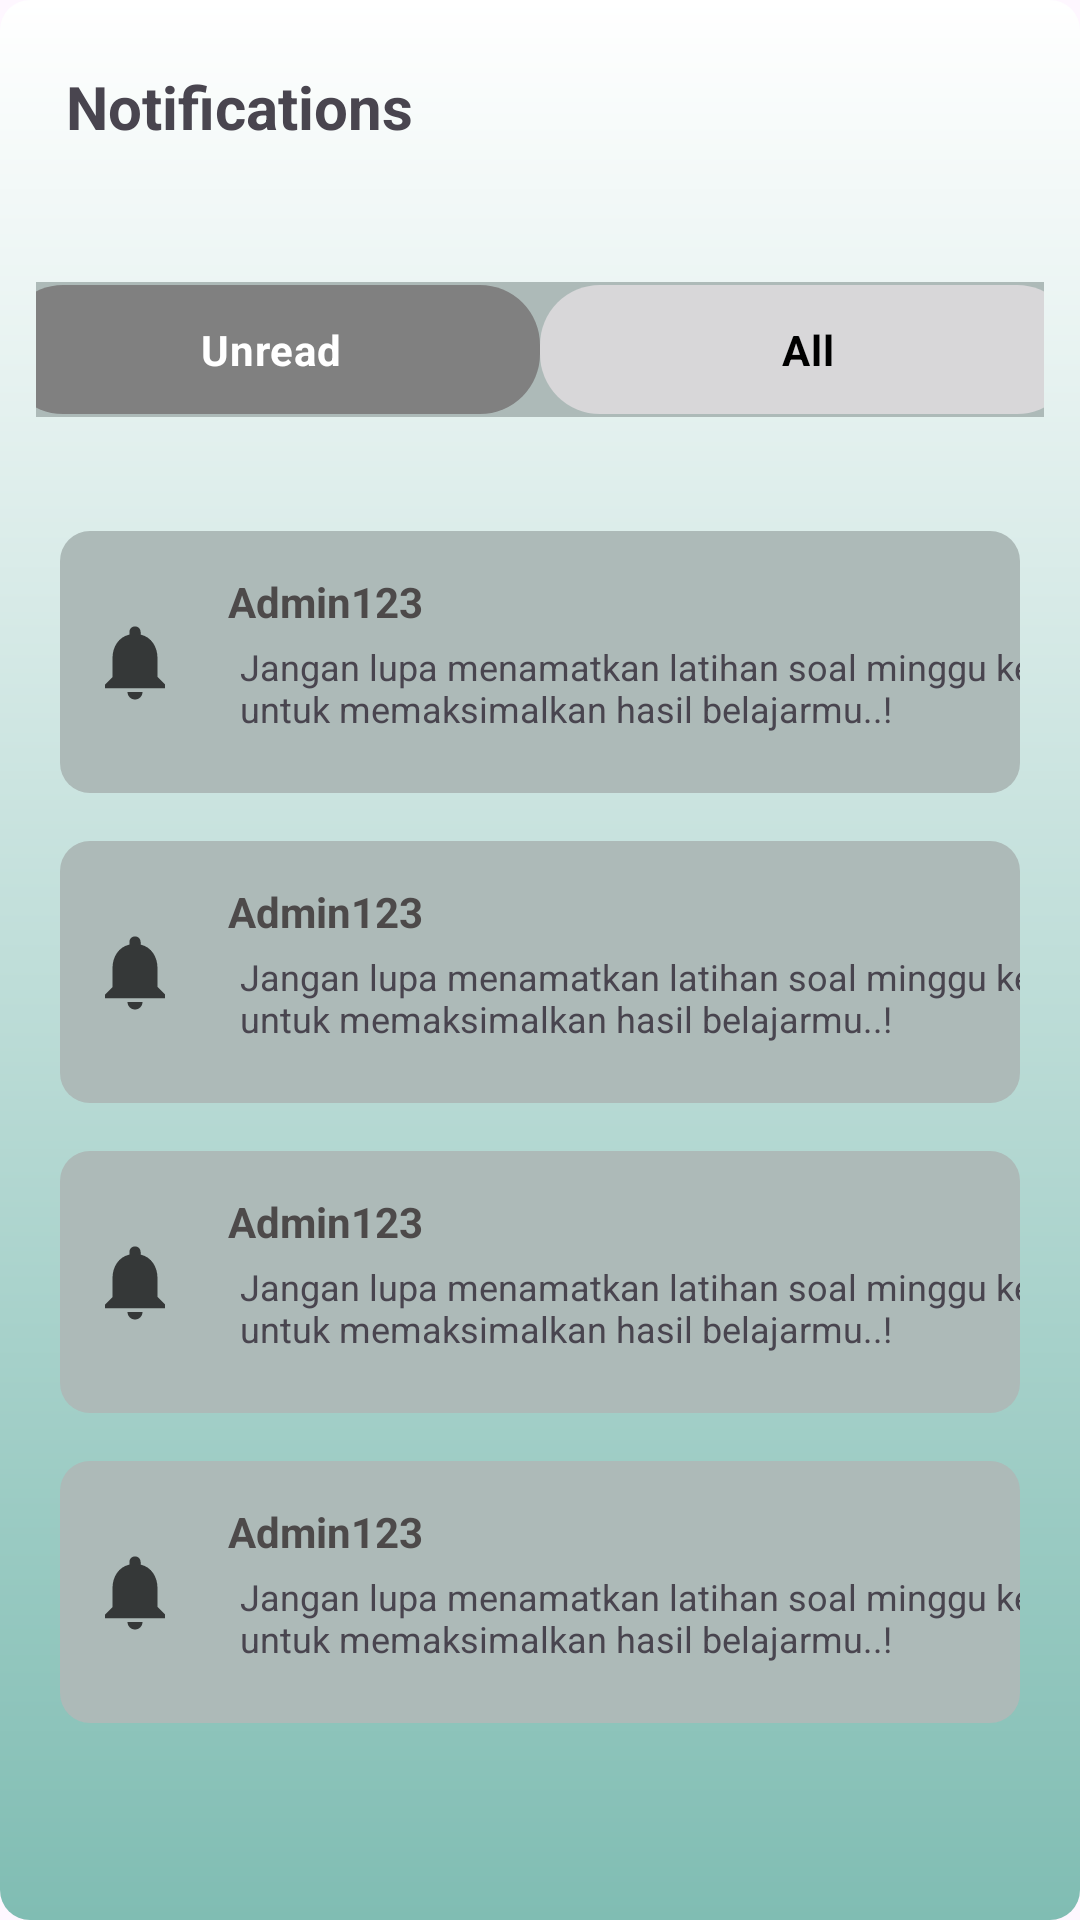

Locate icon controls on the screen. Image size 1080px×1920px, boxes as [left=x1, top=y1, right=x2, bottom=y2].
bell: [left=105, top=626, right=165, bottom=700], [left=105, top=936, right=165, bottom=1010], [left=105, top=1246, right=165, bottom=1320], [left=105, top=1556, right=165, bottom=1630]
